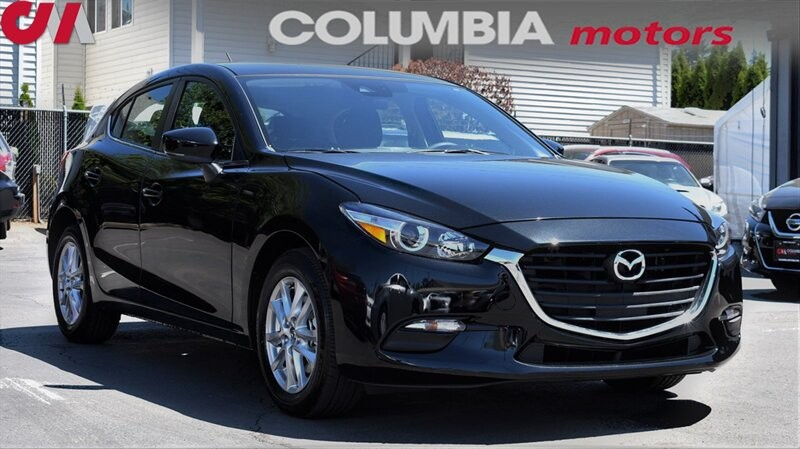Mazda3 Hatchback: (45, 60, 744, 423)
